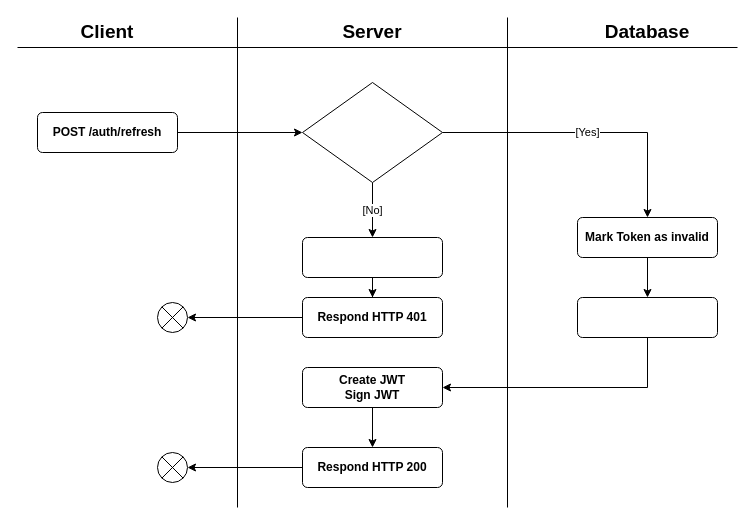
Some shapes in this 756 by 526 pixel diagram are drawn without their labels. Each missing label, with the centre of its shape:
"Create new Token" belongs at (x=647, y=317).
"Mark activity as suspicious" belongs at (x=372, y=257).
"Token exists? Token nonexpired? Token valid?" belongs at (x=372, y=132).
